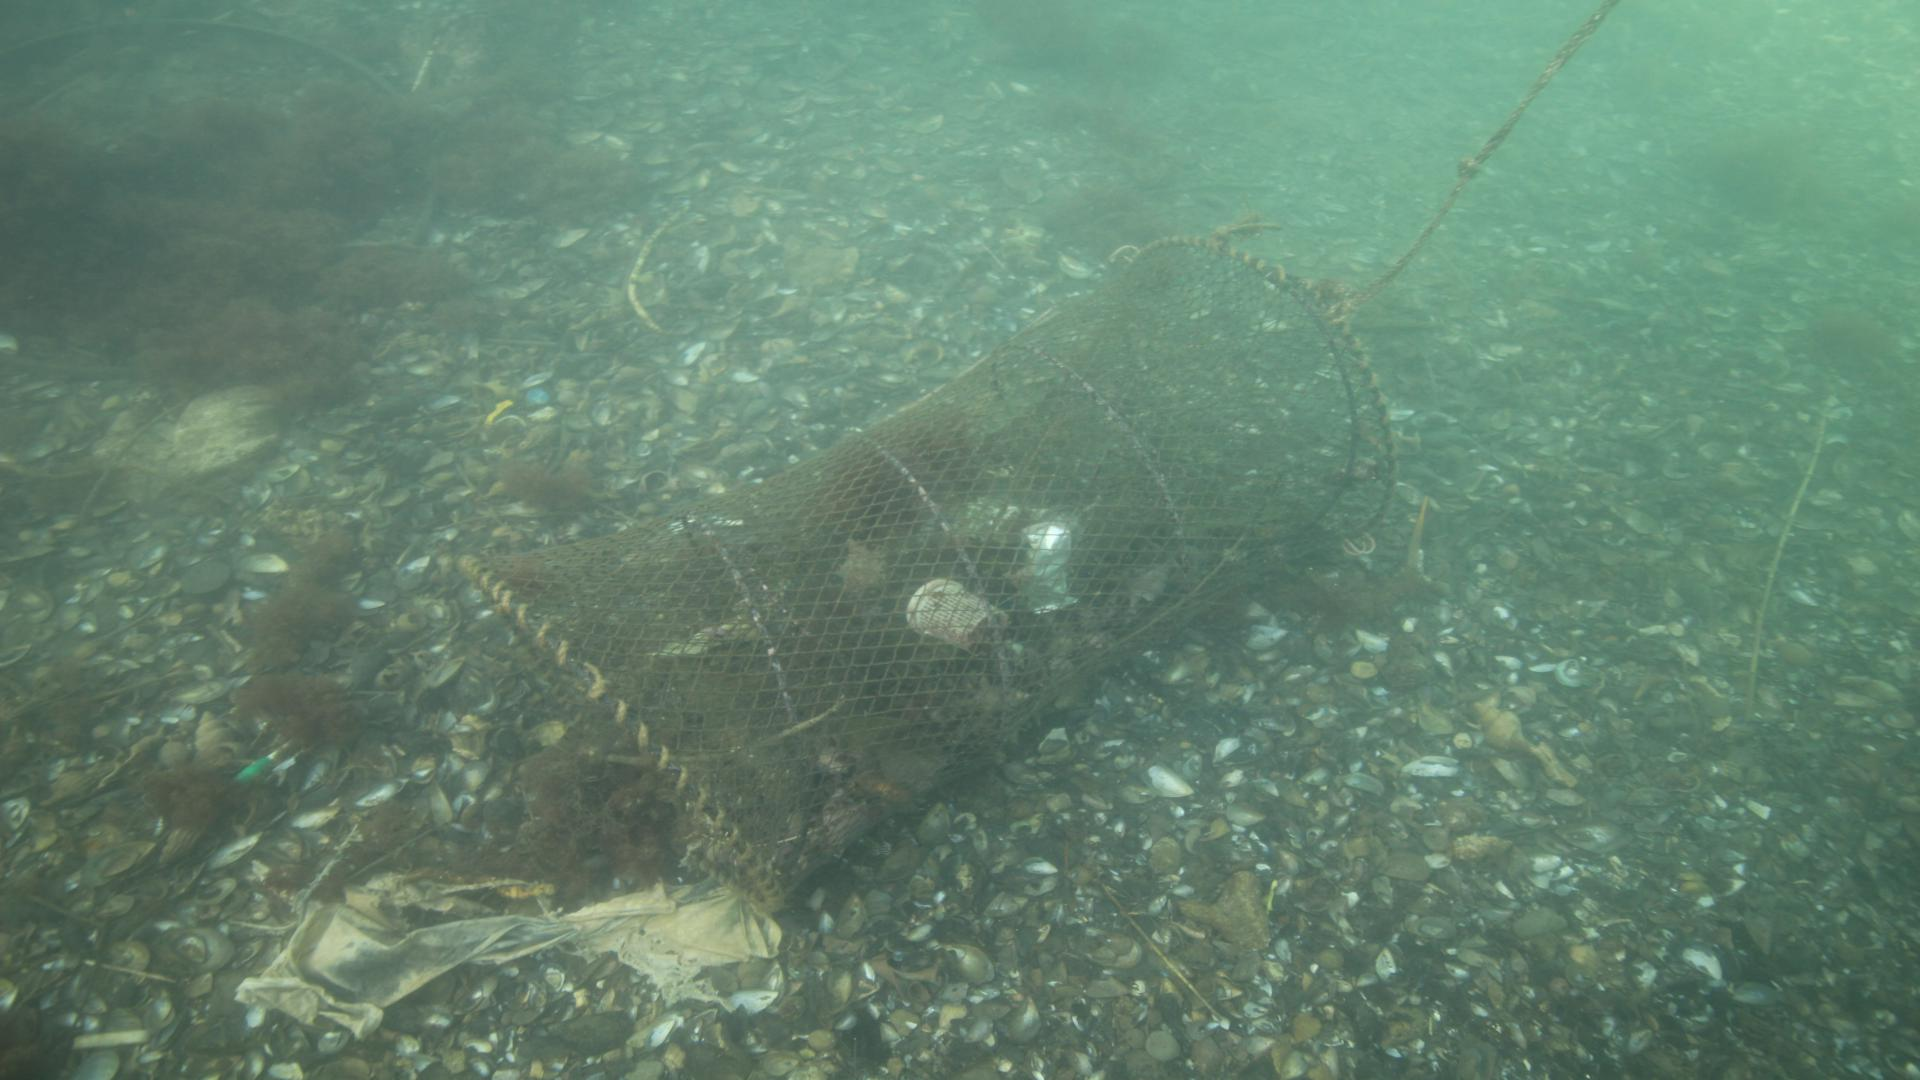rope: (1350, 0, 1615, 307)
spring fish trap: (454, 231, 1396, 910)
